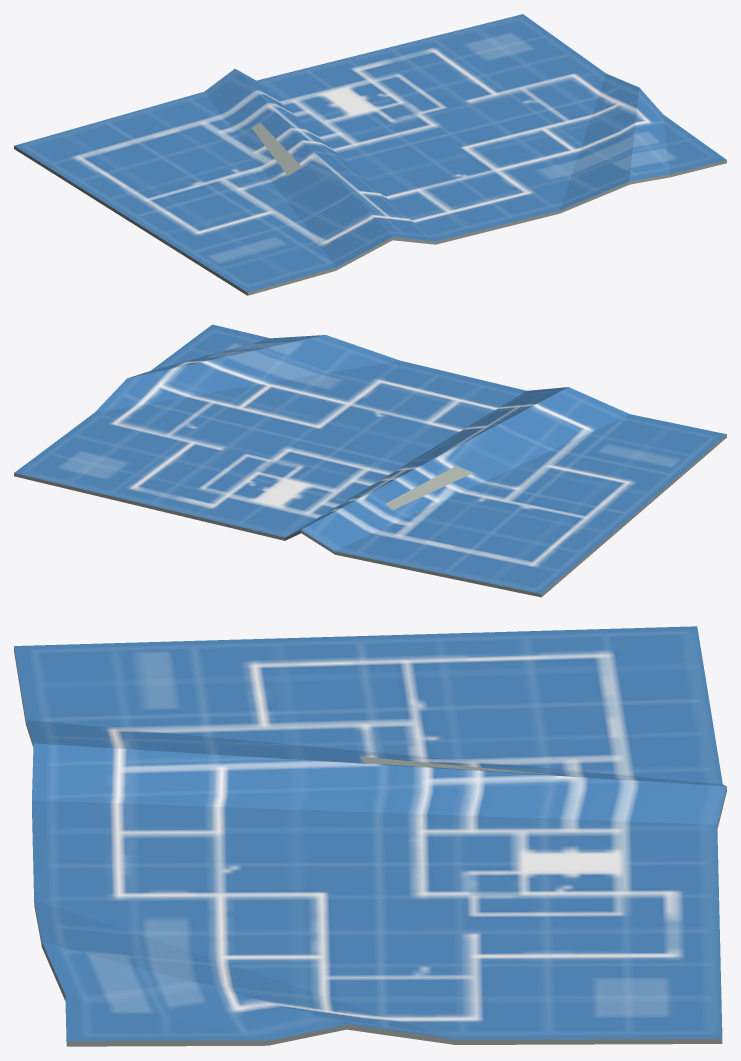
Rendered from SM_Prop_Plans_03.fbx.
3 renders of one model, top to bottom at view 1: azimuth 30°, elevation 25°; view 2: azimuth 150°, elevation 25°; view 3: azimuth 270°, elevation 25°, orthographic. The views are drawn at different scales.
Parts seen in each view (by area): view 1: SM_Prop_Plans_03; view 2: SM_Prop_Plans_03; view 3: SM_Prop_Plans_03.
Boxes of the visible parts, bbox=[...] form: SM_Prop_Plans_03: bbox=[14, 14, 726, 295]; SM_Prop_Plans_03: bbox=[14, 324, 726, 597]; SM_Prop_Plans_03: bbox=[14, 626, 726, 1046].
Bounding box in the file's own units: 86.08 × 2.79 × 62.5.
